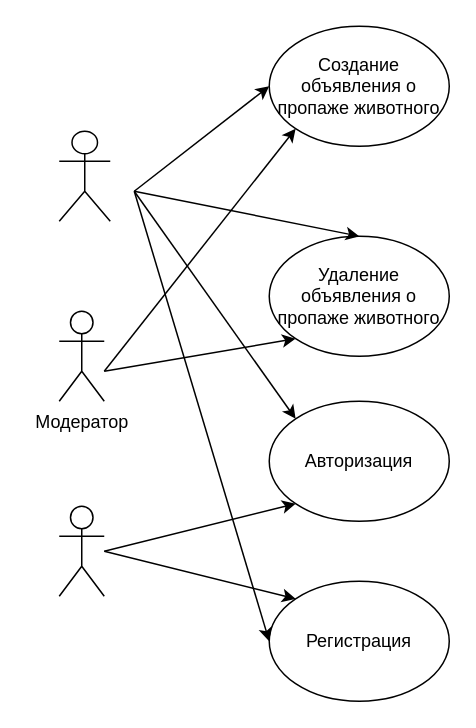
Some shapes in this 476 by 728 pixel diagram are drawn without their labels. The centre of each missing label's shape, as x and y in pixels:
Пользователь: the point at 84,175
Система: the point at 81,550
